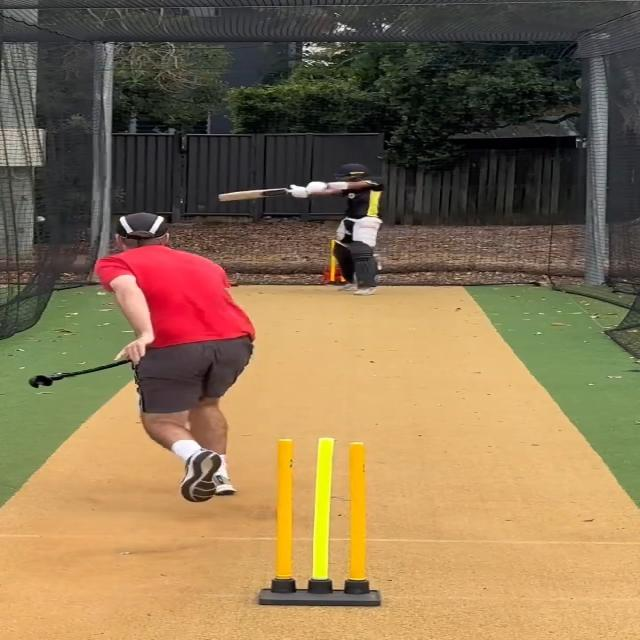ball: (36, 215, 48, 222)
stump: (254, 437, 390, 611)
